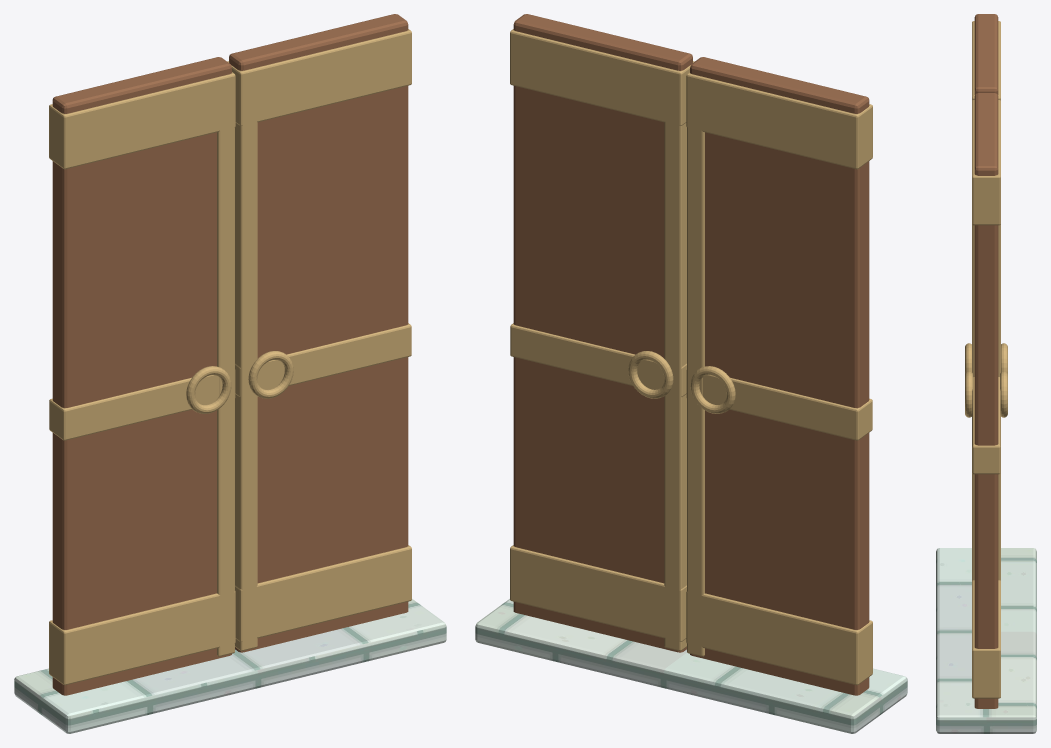
The model's file is act1_exit_doors.glb.
The picture shows the model from 3 angles, left to right: view 1: azimuth 30°, elevation 25°; view 2: azimuth 150°, elevation 25°; view 3: azimuth 270°, elevation 25°; orthographic projection. The views are drawn at different scales.
Visible parts, largest first — view 1: ANIM_Act1_ExitDoorL_Mesh, ANIM_Act1_ExitDoorR_Mesh, SM_Act1_ExitDoorsRoot_Frame; view 2: ANIM_Act1_ExitDoorL_Mesh, ANIM_Act1_ExitDoorR_Mesh, SM_Act1_ExitDoorsRoot_Frame; view 3: ANIM_Act1_ExitDoorR_Mesh, SM_Act1_ExitDoorsRoot_Frame, ANIM_Act1_ExitDoorL_Mesh.
Part boxes in pixels (<box>): ANIM_Act1_ExitDoorL_Mesh: <box>49,57,235,695</box>; ANIM_Act1_ExitDoorR_Mesh: <box>227,14,411,652</box>; SM_Act1_ExitDoorsRoot_Frame: <box>14,599,446,733</box>; ANIM_Act1_ExitDoorL_Mesh: <box>686,57,872,695</box>; ANIM_Act1_ExitDoorR_Mesh: <box>510,14,694,652</box>; SM_Act1_ExitDoorsRoot_Frame: <box>475,599,907,733</box>; ANIM_Act1_ExitDoorR_Mesh: <box>965,93,1007,708</box>; SM_Act1_ExitDoorsRoot_Frame: <box>936,548,1036,733</box>; ANIM_Act1_ExitDoorL_Mesh: <box>965,14,1007,373</box>.
Bounding box in the file's own units: 0.88 × 1.35 × 0.22.
Materials: 3 (1 with a texture image).
